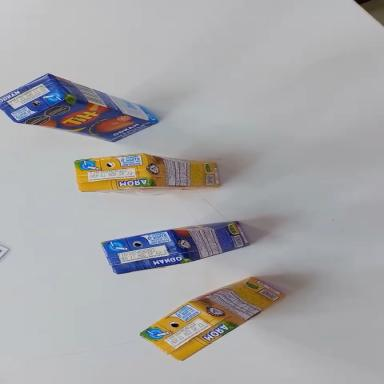HIT-MANGO: (0, 61, 161, 166), (101, 217, 250, 276)
HIT-MORA: (139, 257, 285, 372), (75, 150, 220, 195)
cara_F: (17, 84, 156, 162)
